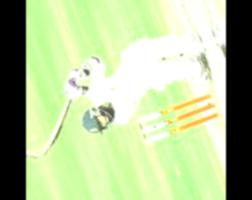batsman: (29, 27, 226, 151)
